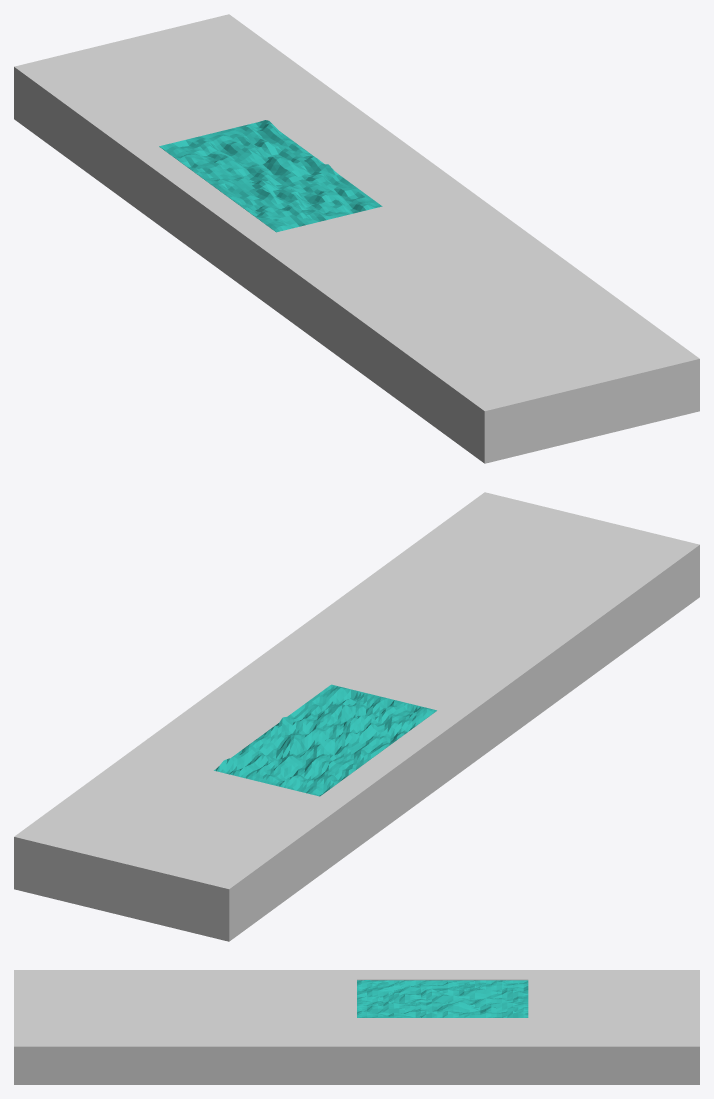
Rendered from pathwithwater.fbx.
3 renders of one model, top to bottom at view 1: azimuth 30°, elevation 25°; view 2: azimuth 150°, elevation 25°; view 3: azimuth 270°, elevation 25°, orthographic. The views are drawn at different scales.
Parts seen in each view (by area): view 1: Cube.001, Cube; view 2: Cube.001, Cube; view 3: Cube.001, Cube.
Boxes of the visible parts, bbox=[...] form: Cube.001: bbox=[14, 14, 699, 463]; Cube: bbox=[159, 120, 382, 232]; Cube.001: bbox=[14, 492, 699, 941]; Cube: bbox=[214, 684, 436, 796]; Cube.001: bbox=[14, 970, 699, 1084]; Cube: bbox=[357, 980, 528, 1017].
Bounding box in the file's own units: 200 × 52 × 758.
